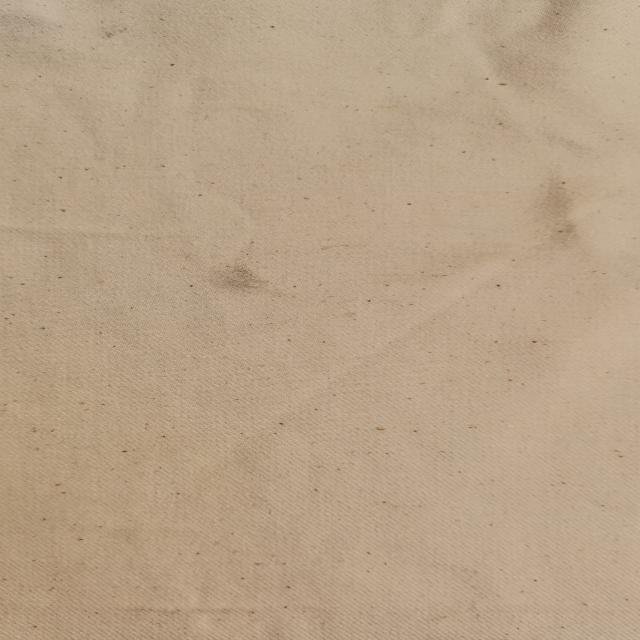taaaches: (531, 182, 590, 252), (192, 258, 280, 304)
